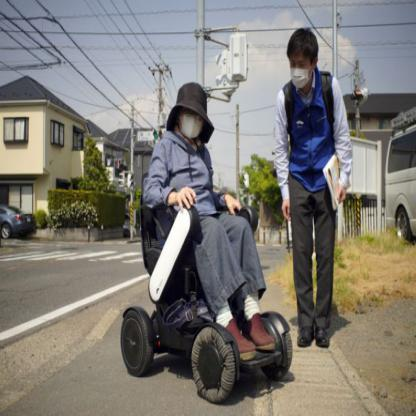wheelchair: (120, 82, 294, 396)
